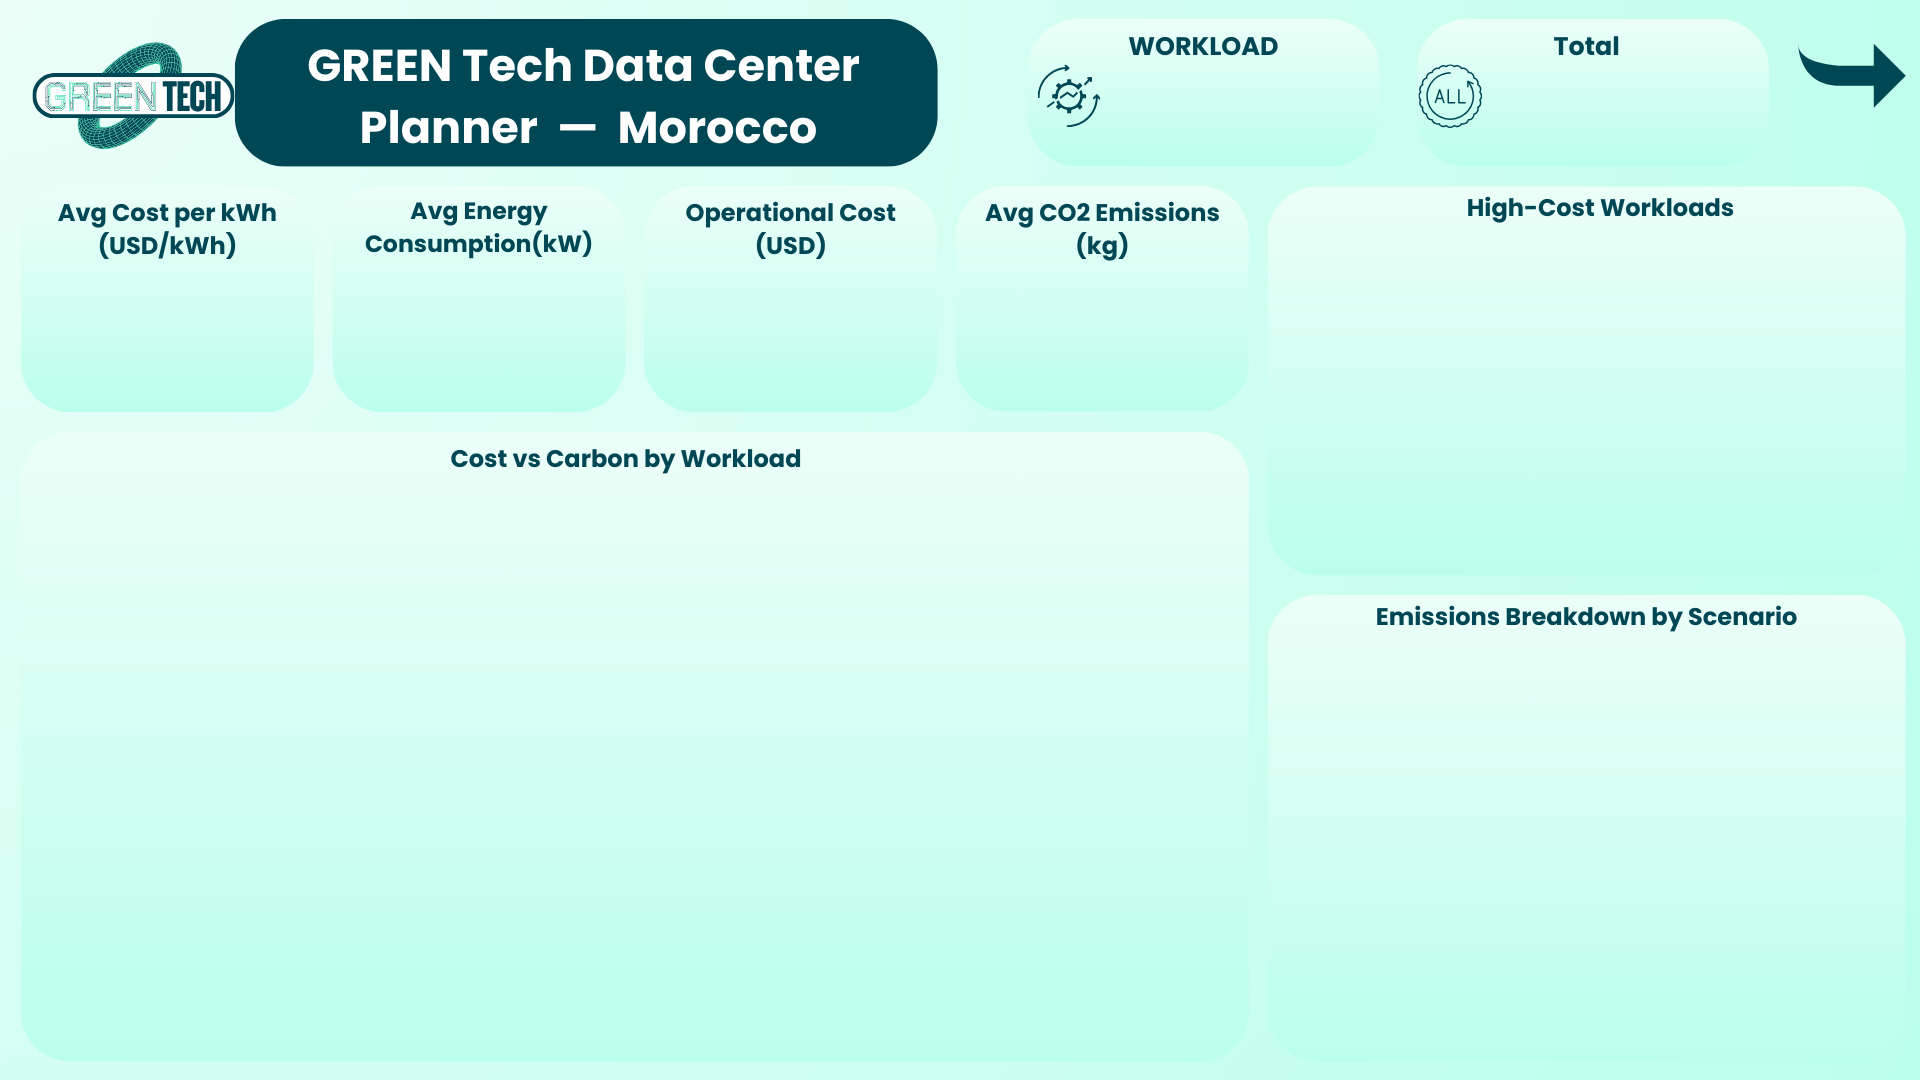

What the dashboard file says about the page in this screenshot:
{"tool":"powerbi","page":{"name":"Page 3","canvas":[1280,720],"ordinal":2},"visuals":[{"type":"card","title":"Coût Moyen / kWh","fields":{"Values":["Avg(FACT_GREEN_WORKLOAD.COST_PER_KWH)"]},"box":[337.9,3.4,279.9,127.7],"z":0},{"type":"card","title":"Consommation Moyenne","fields":{"Values":["Avg(FACT_GREEN_WORKLOAD.ENERGY_CONSUMPTION_KWH)"]},"box":[551.7,3.4,300,129.2],"z":1000},{"type":"card","title":"Coût Opérationnel","fields":{"Values":["Avg(FACT_GREEN_WORKLOAD.OPERATIONAL_COST_USD)"]},"box":[772.2,2.9,258.4,129.2],"z":2000},{"type":"card","title":"Emissions Moyenne","fields":{"Values":["Avg(FACT_GREEN_WORKLOAD.CARBON_EMISSIONS_KGCO2)"]},"box":[980.3,2.9,300,104.8],"z":3000},{"type":"clusteredBarChart","title":"Coût Opérationnel par WORKLOAD_TYPE","fields":{"Category":["DIM_WORKLOAD.WORKLOAD_TYPE"],"Y":["Avg(FACT_GREEN_WORKLOAD.OPERATIONAL_COST_USD)"]},"box":[782.5,107.5,497.5,257.5],"z":4000},{"type":"clusteredColumnChart","title":" Coût par Energy Source","fields":{"Category":["DIM_ENERGY.ENERGY_SOURCE"],"Y":["Avg(FACT_GREEN_WORKLOAD.OPERATIONAL_COST_USD)"],"Series":["DIM_ENERGY.ENERGY_SOURCE"]},"box":[881.4,402.6,399,317.4],"z":5000},{"type":"slicer","fields":{"Values":["DIM_WORKLOAD.WORKLOAD_TYPE"]},"box":[173.7,0,163.6,64.6],"z":6000},{"type":"donutChart","fields":{"Category":["DIM_ENERGY.ENERGY_SOURCE"],"Y":["Sum(FACT_GREEN_WORKLOAD.ENERGY_CONSUMPTION_KWH)"]},"box":[19.9,103.4,359.1,210.4],"z":7000},{"type":"scatterChart","fields":{"X":["Avg(FACT_GREEN_WORKLOAD.OPERATIONAL_COST_USD)"],"Y":["Avg(FACT_GREEN_WORKLOAD.CARBON_EMISSIONS_KGCO2)"],"Category":["DIM_WORKLOAD.WORKLOAD_TYPE"],"Series":["DIM_ENERGY.ENERGY_SOURCE"],"Size":["Avg(FACT_GREEN_WORKLOAD.OPERATIONAL_COST_USD)"]},"box":[0,342.8,850.6,377.2],"z":8000},{"type":"clusteredColumnChart","fields":{"Category":["DIM_SCENARIO.WORKLOAD_SCENARIO"],"Y":["Sum(FACT_GREEN_WORKLOAD.CARBON_EMISSIONS_KGCO2)"],"Series":["DIM_ENERGY.ENERGY_SOURCE"]},"box":[355.7,102.9,457.1,240],"z":8001}]}

Visuals, with their boxes in screenshot pixels (x1, y1, x2, y2), scaled from the page's 1280x720 canvas onto the 1920x1080 screenshot:
"Coût Moyen / kWh" card: {"left": 507, "top": 5, "right": 927, "bottom": 197}
"Consommation Moyenne" card: {"left": 828, "top": 5, "right": 1278, "bottom": 199}
"Coût Opérationnel" card: {"left": 1158, "top": 4, "right": 1546, "bottom": 198}
"Emissions Moyenne" card: {"left": 1470, "top": 4, "right": 1919, "bottom": 162}
"Coût Opérationnel par WORKLOAD_TYPE" clusteredBarChart: {"left": 1174, "top": 161, "right": 1919, "bottom": 548}
" Coût par Energy Source" clusteredColumnChart: {"left": 1322, "top": 604, "right": 1919, "bottom": 1079}
slicer - DIM_WORKLOAD.WORKLOAD_TYPE: {"left": 261, "top": 0, "right": 506, "bottom": 97}
donutChart - DIM_ENERGY.ENERGY_SOURCE x Sum(FACT_GREEN_WORKLOAD.ENERGY_CONSUMPTION_KWH): {"left": 30, "top": 155, "right": 568, "bottom": 471}
scatterChart - Avg(FACT_GREEN_WORKLOAD.OPERATIONAL_COST_USD) x Avg(FACT_GREEN_WORKLOAD.CARBON_EMISSIONS_KGCO2): {"left": 0, "top": 514, "right": 1276, "bottom": 1079}
clusteredColumnChart - DIM_SCENARIO.WORKLOAD_SCENARIO x Sum(FACT_GREEN_WORKLOAD.CARBON_EMISSIONS_KGCO2): {"left": 534, "top": 154, "right": 1219, "bottom": 514}
